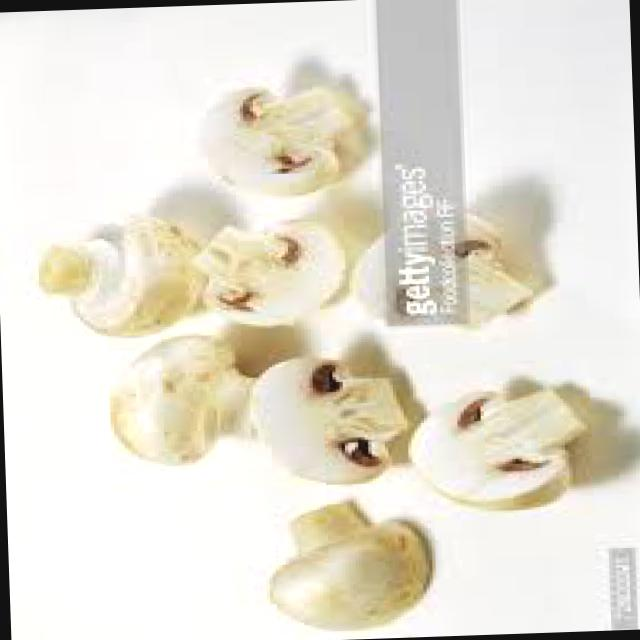Agaricus bisporus: (415, 379, 583, 514), (189, 68, 359, 200), (261, 496, 429, 624), (108, 342, 274, 464), (252, 360, 409, 486), (46, 217, 202, 340), (202, 212, 343, 324)
